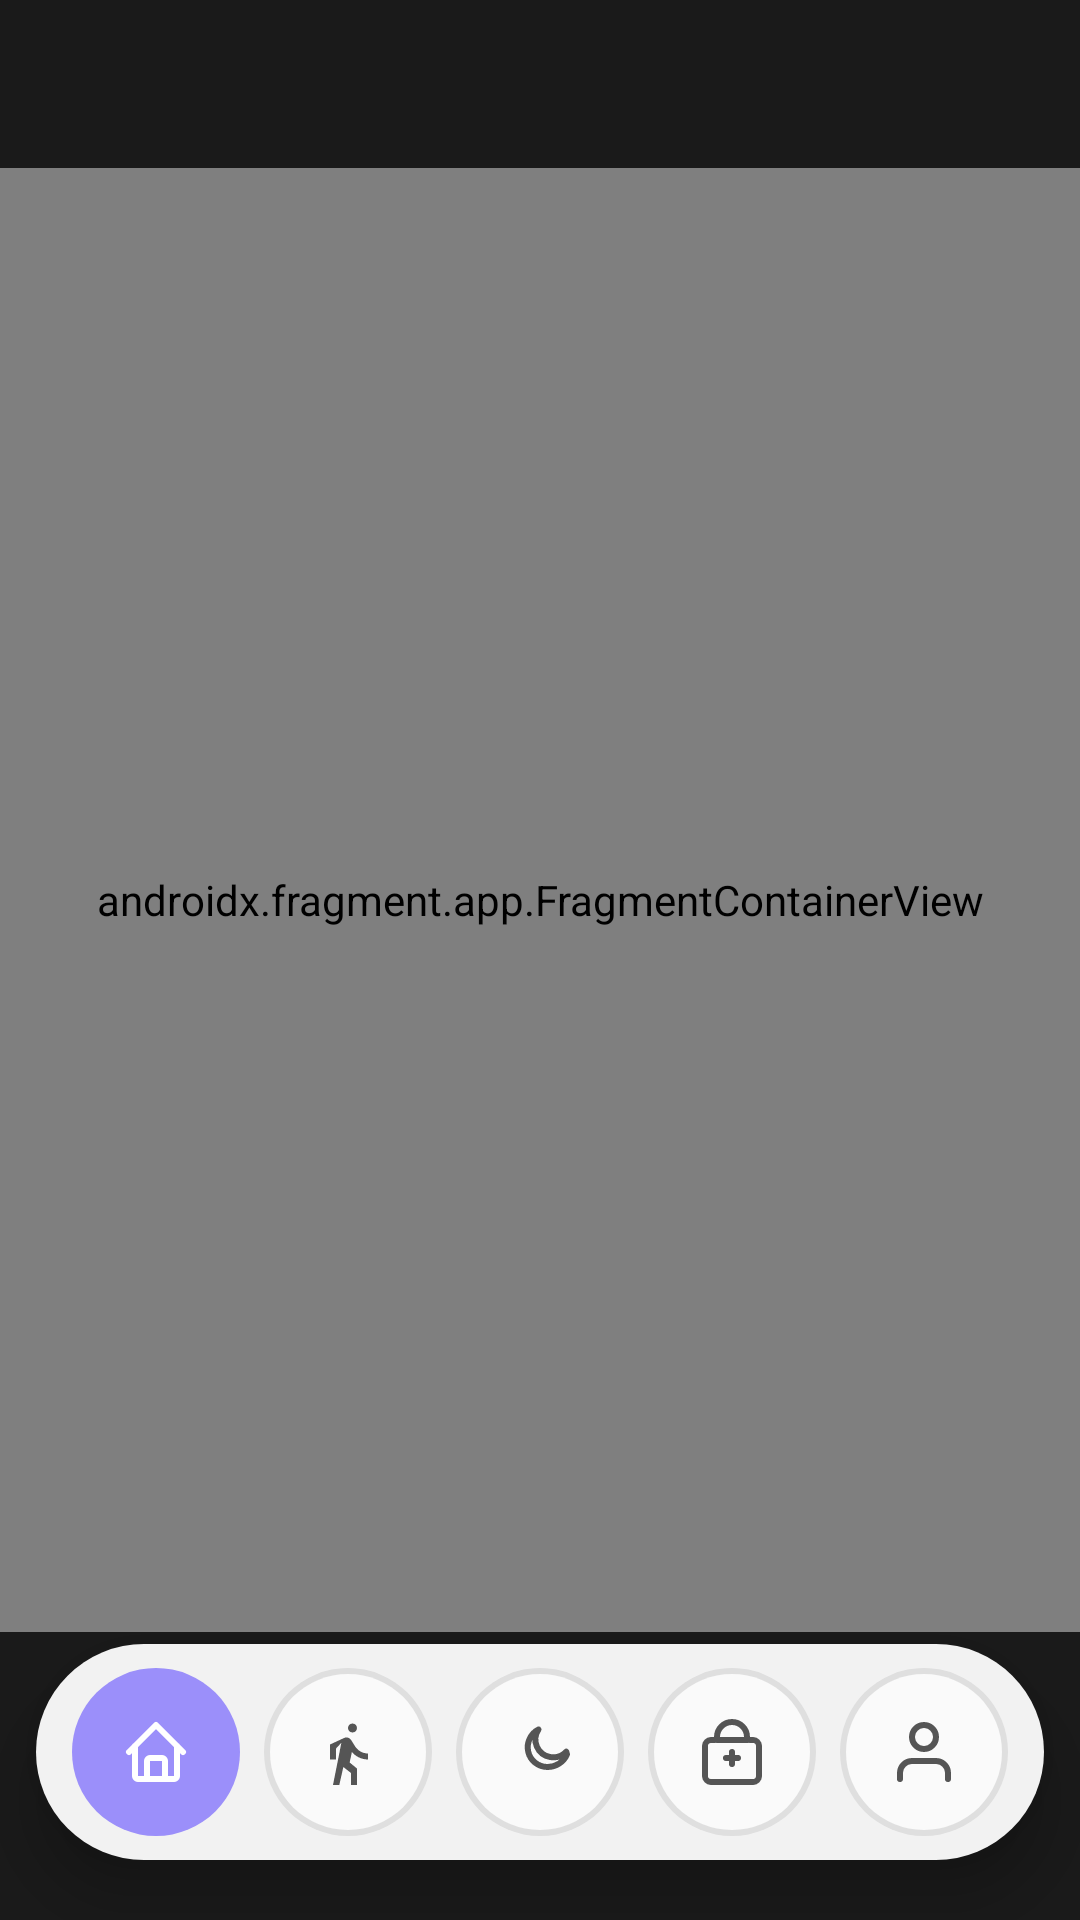

Locate icon controls on the screen. Image size 1080 × 1920, boxes as (x1, y1, x2, y2).
Home: (126, 1722, 186, 1782)
Profile: (897, 1722, 951, 1782)
Sleep: (524, 1726, 570, 1770)
Steps: (330, 1723, 368, 1785)
